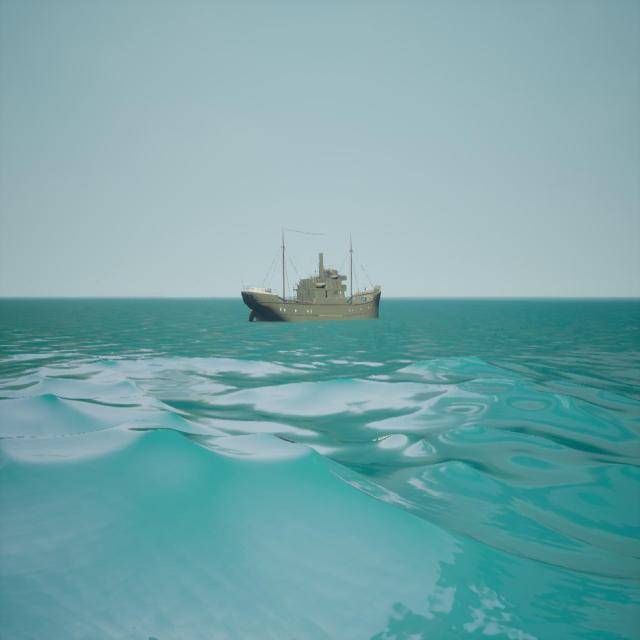fishing ship: (243, 232, 383, 325)
